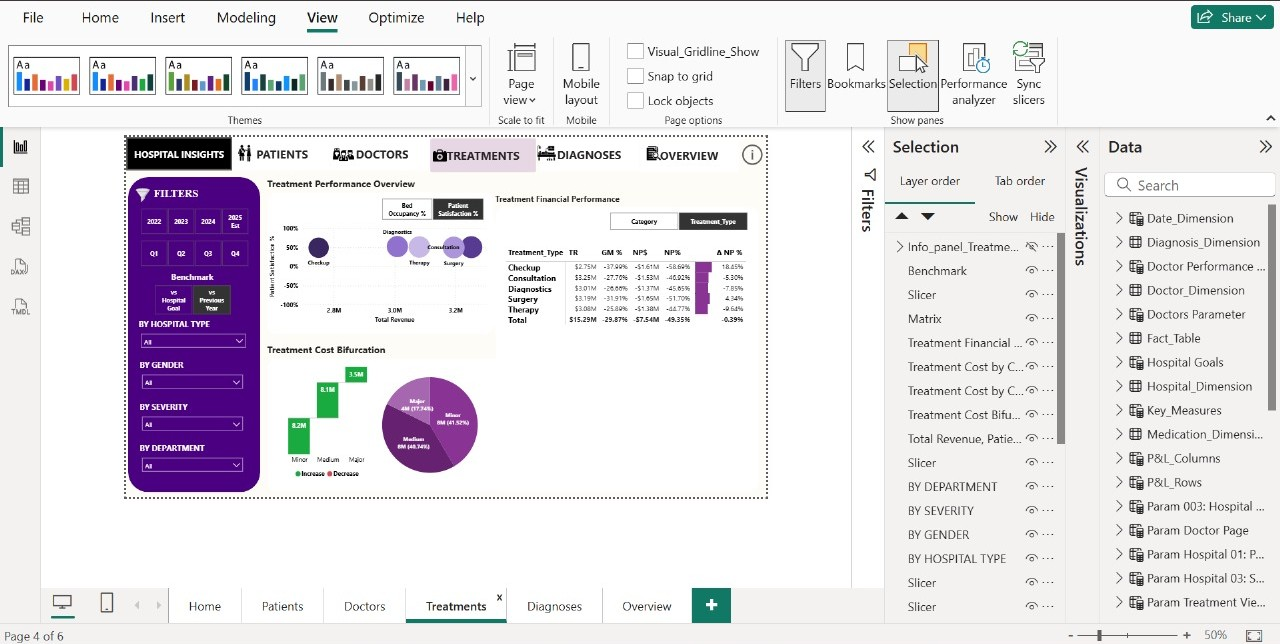

Layout of this report page (visuals, bound fields, positions):
{"tool":"powerbi","page":{"name":"Treatments","canvas":[1280,720],"ordinal":3},"visuals":[{"type":"shape","title":"Treatment Performance Overview","box":[281.6,79.4,453.5,313.7],"z":0},{"type":"shape","box":[3.3,80,264,630],"z":0,"group":"g2"},{"type":"image","box":[13.3,96,38.3,40],"z":0,"group":"g1"},{"type":"actionButton","box":[0,0,212,66.7],"z":1000},{"type":"group","id":"g1","title":"Group 2","box":[13.3,96,146,40],"z":1000,"group":"g2"},{"type":"textbox","title":"FILTERS","box":[50,99.3,110,31.7],"z":1000,"group":"g1"},{"type":"actionButton","title":"Home","box":[212.3,0,200,66.7],"z":2000},{"type":"actionButton","title":"Home","box":[412.3,0,200,66.7],"z":3000},{"type":"actionButton","title":"Home","box":[607.3,1.8,211.8,68.2],"z":4000},{"type":"actionButton","title":"Home","box":[826.4,0,200,67.9],"z":5000},{"type":"actionButton","title":"Home","box":[1026.4,1.9,200,67.9],"z":6000},{"type":"actionButton","box":[1226.4,7.5,52.8,54.7],"z":7000},{"type":"image","box":[1027.5,12.7,54.1,39.8],"z":8000},{"type":"image","box":[400,7.5,69.8,52.8],"z":9000},{"type":"image","box":[607.3,14.5,38.2,45.5],"z":10000},{"type":"image","box":[807.5,7.5,66,47.2],"z":11000},{"type":"image","box":[205.2,9.5,62,44.5],"z":12000},{"type":"group","id":"g2","title":"Group 3","box":[3.3,80,264,630],"z":13000},{"type":"slicer","fields":{"Values":["Date_Dimension.Year_Desc"]},"box":[3.8,135.8,264.2,64.2],"z":14000},{"type":"slicer","fields":{"Values":["Date_Dimension.Quarter"]},"box":[3.8,200,264.2,64.2],"z":15000},{"type":"slicer","title":"BY HOSPITAL TYPE","fields":{"Values":["hospital_dimension_2000.Type"]},"box":[19.1,361.1,229,65.2],"z":16000},{"type":"slicer","title":"BY GENDER","fields":{"Values":["Patient_Dimension.Gender"]},"box":[22.3,443.8,221.1,63.6],"z":17000},{"type":"slicer","title":"BY SEVERITY","fields":{"Values":["Diagnosis_dimension_2000.Severity"]},"box":[22.3,528.1,221.1,63.6],"z":18000},{"type":"slicer","title":"BY DEPARTMENT","fields":{"Values":["doctor_dimension_2000.Department"]},"box":[22.3,609.2,221.1,63.6],"z":19000},{"type":"slicer","fields":{"Values":["Param Hospital 01: Performance Matrix Y Axis.Param Hospital 01: Performance Matrix Y Axis"]},"box":[485.9,116,252.2,52.1],"z":20000},{"type":"scatterChart","fields":{"Y":["Key_Measures.Patient Satisfaction %"],"X":["Key_Measures.Total Revenue"],"Size":["Key_Measures.Total Revenue"],"Series":["Treatment_Dimension.Treatment_Type"]},"box":[281.6,168.2,457.3,209.8],"z":21000},{"type":"shape","title":"Treatment Cost Bifurcation","box":[281.6,412,453.5,296.7],"z":22000},{"type":"pieChart","fields":{"Category":["Treatment_Dimension.Category"],"Y":["Key_Measures.Treatment Cost"]},"box":[387.4,444.1,438.4,262.7],"z":23000},{"type":"waterfallChart","fields":{"Y":["Key_Measures.Treatment Cost"],"Category":["Treatment_Dimension.Category"]},"box":[296.7,444.1,215.4,247.6],"z":24000},{"type":"shape","title":"Treatment Financial Performance","box":[738.9,111.5,527.2,597.2],"z":25000},{"type":"pivotTable","fields":{"Rows":["Treatment_Dimension.Treatment_Type"],"Values":["Key_Measures.Total Revenue","Fact_Table.GM %","Key_Measures.Net Profit $","Key_Measures.Net Profit %","Key_Measures.Net Profit % BAR","Key_Measures.Δ NP %"]},"box":[754,214,498,478],"z":26000},{"type":"slicer","fields":{"Values":["Treatment View Parameter.Treatment View Parameter"]},"box":[942,144,324,48],"z":27000},{"type":"slicer","title":"Benchmark","fields":{"Values":["Set_BM.Benchmark"]},"box":[31.8,267.2,200.4,92.3],"z":28000}]}

Visuals, with their boxes on the page's 1280x720 design canvas (x1, y1, x2, y2). These are canvas units, not pixel positions in the 1280x644 screenshot, which may show the page scaled, cropped or inside an application window:
"Treatment Performance Overview" shape: 282 79 735 393
shape: 3 80 267 710
image: 13 96 52 136
actionButton: 0 0 212 67
"Group 2" group: 13 96 159 136
"FILTERS" textbox: 50 99 160 131
"Home" actionButton: 212 0 412 67
"Home" actionButton: 412 0 612 67
"Home" actionButton: 607 2 819 70
"Home" actionButton: 826 0 1026 68
"Home" actionButton: 1026 2 1226 70
actionButton: 1226 8 1279 62
image: 1028 13 1082 52
image: 400 8 470 60
image: 607 14 646 60
image: 808 8 874 55
image: 205 10 267 54
"Group 3" group: 3 80 267 710
slicer - Date_Dimension.Year_Desc: 4 136 268 200
slicer - Date_Dimension.Quarter: 4 200 268 264
"BY HOSPITAL TYPE" slicer: 19 361 248 426
"BY GENDER" slicer: 22 444 243 507
"BY SEVERITY" slicer: 22 528 243 592
"BY DEPARTMENT" slicer: 22 609 243 673
slicer - Param Hospital 01: Performance Matrix Y Axis.Param Hospital 01: Performance Matrix Y Axis: 486 116 738 168
scatterChart - Key_Measures.Patient Satisfaction % x Key_Measures.Total Revenue: 282 168 739 378
"Treatment Cost Bifurcation" shape: 282 412 735 709
pieChart - Treatment_Dimension.Category x Key_Measures.Treatment Cost: 387 444 826 707
waterfallChart - Key_Measures.Treatment Cost x Treatment_Dimension.Category: 297 444 512 692
"Treatment Financial Performance" shape: 739 112 1266 709
pivotTable - Treatment_Dimension.Treatment_Type x Key_Measures.Total Revenue: 754 214 1252 692
slicer - Treatment View Parameter.Treatment View Parameter: 942 144 1266 192
"Benchmark" slicer: 32 267 232 360
